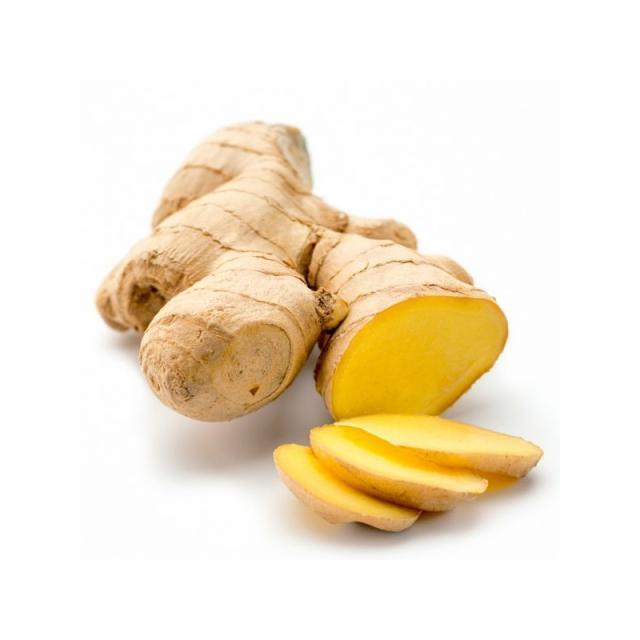ginger: (87, 82, 547, 550)
